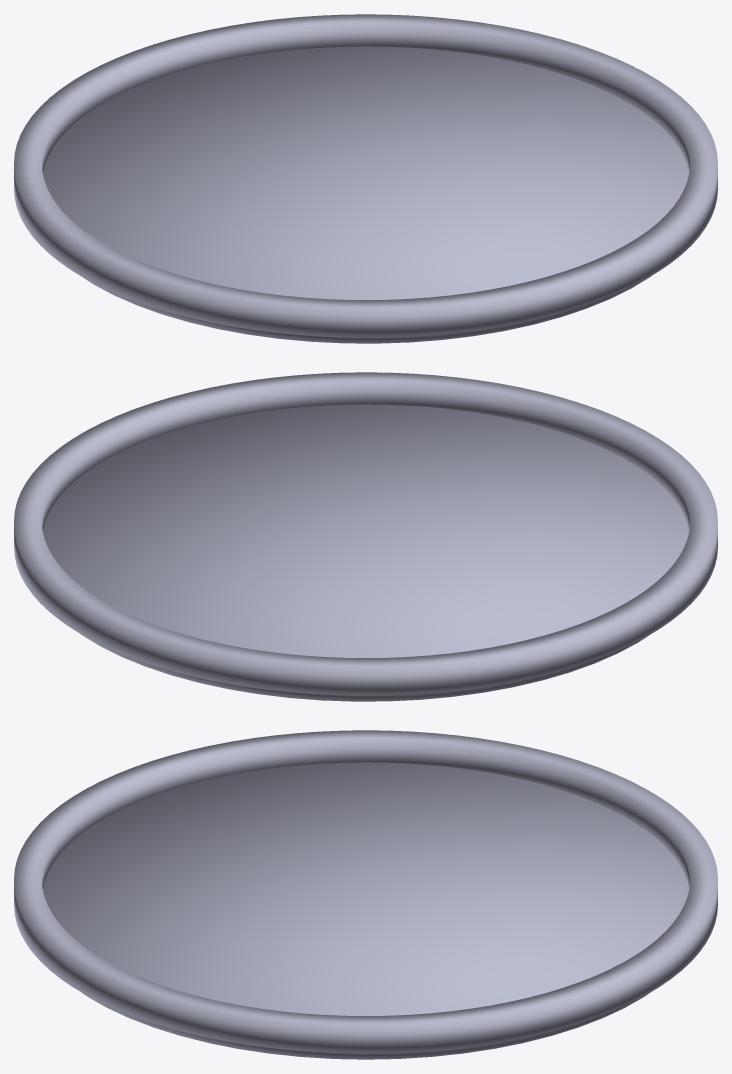
The model's file is butler_tray.glb.
3 views of the same model, one above another, from view 1: azimuth 30°, elevation 25°; view 2: azimuth 150°, elevation 25°; view 3: azimuth 270°, elevation 25° (orthographic).
Visible parts, largest first — view 1: butler_tray__dish, butler_tray__rim; view 2: butler_tray__dish, butler_tray__rim; view 3: butler_tray__dish, butler_tray__rim.
Boxes of the visible parts, x1,y1,x2,y2 form: butler_tray__dish: (42,46,689,343); butler_tray__rim: (14,14,717,337); butler_tray__dish: (42,404,689,701); butler_tray__rim: (14,372,717,695); butler_tray__dish: (42,762,689,1059); butler_tray__rim: (14,730,717,1053).
Size of the model in its own units: 0.988 by 0.0605 by 0.988.
